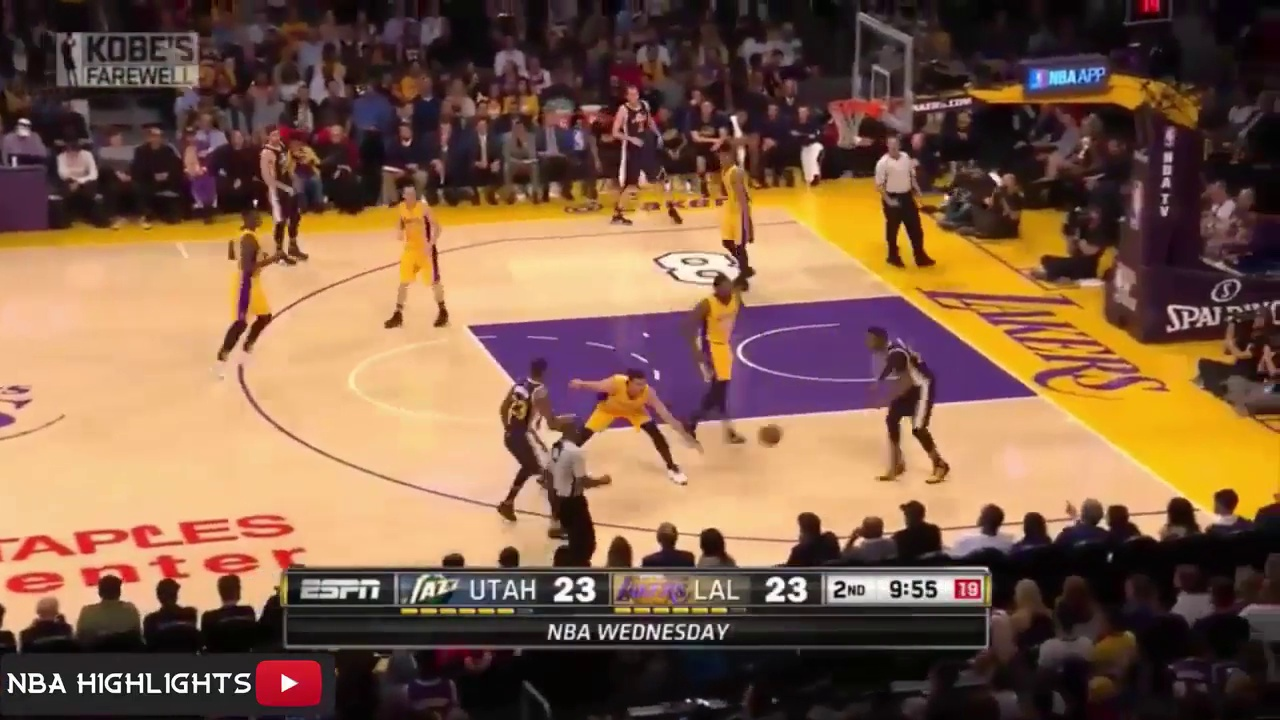jazz: (860, 322, 952, 491), (495, 356, 566, 522), (608, 84, 684, 226), (257, 121, 321, 258)
lakers: (579, 368, 692, 490), (208, 209, 284, 382), (689, 275, 756, 442), (383, 187, 460, 322), (714, 148, 763, 278)
